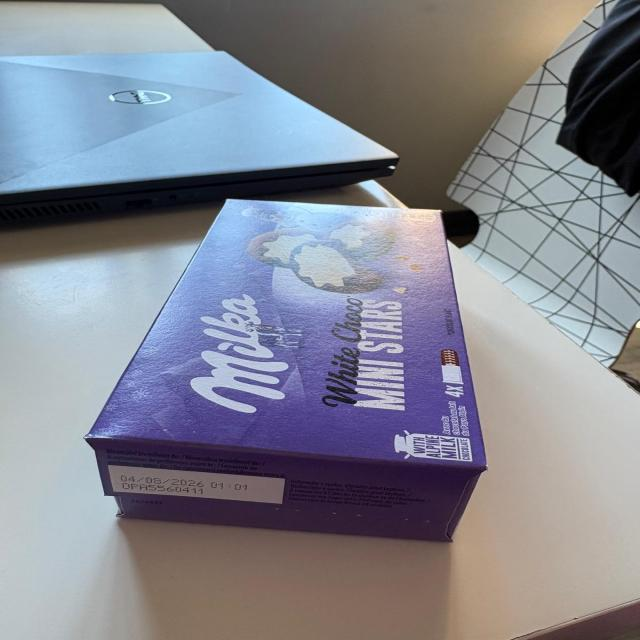good_package: (85, 200, 488, 544)
